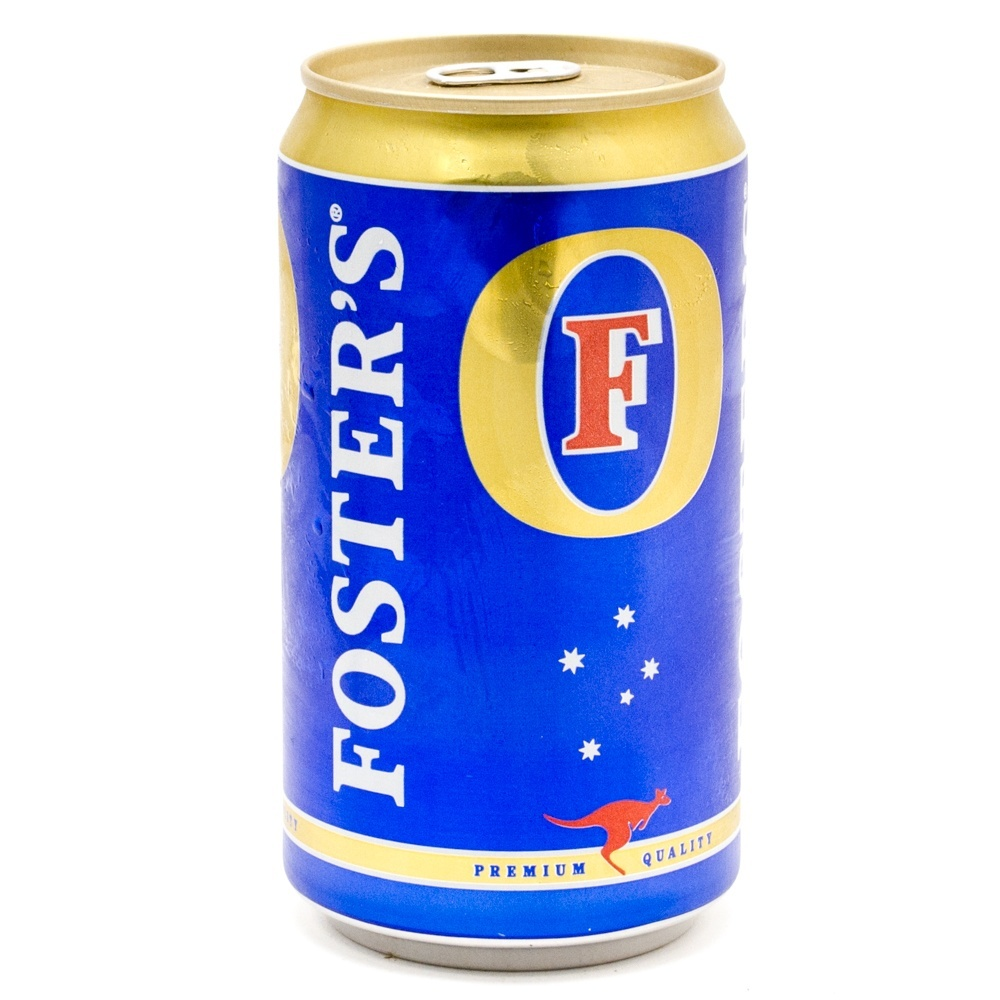beer can: (275, 32, 741, 968)
